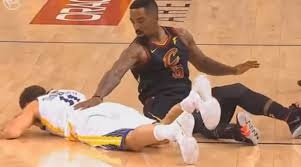falling: (69, 4, 301, 141)
